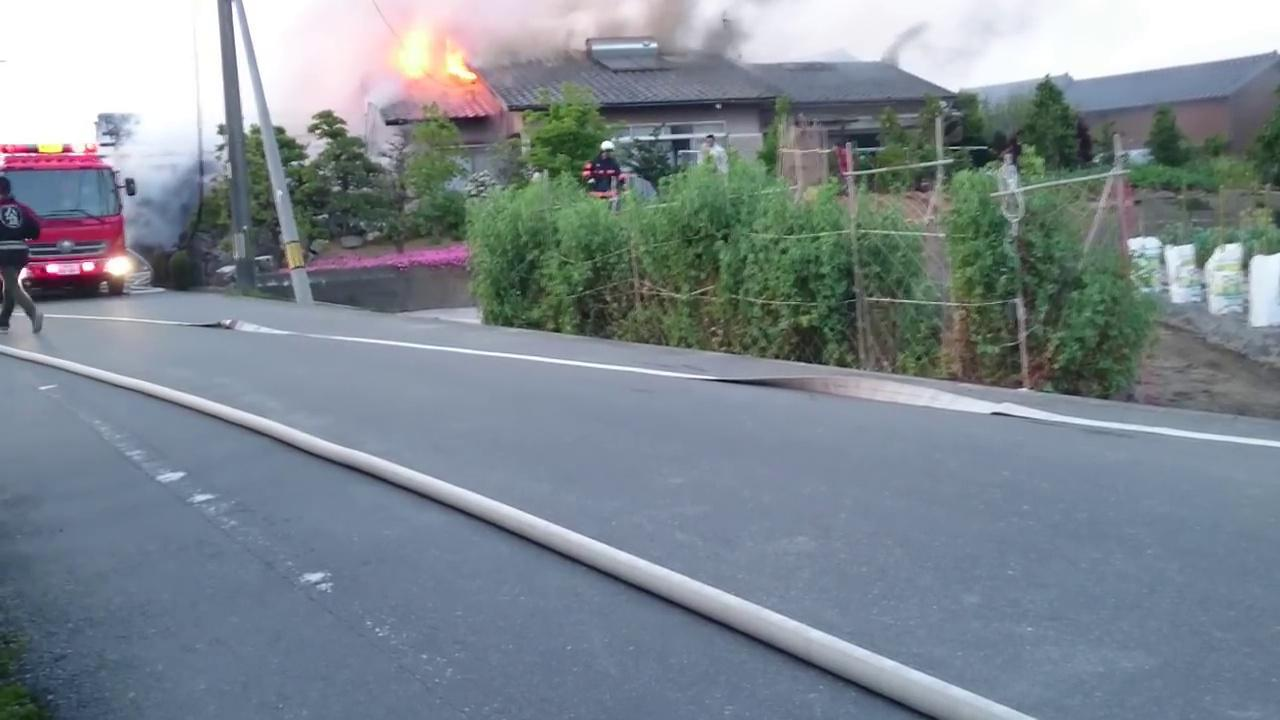Fire: (390, 20, 472, 83)
